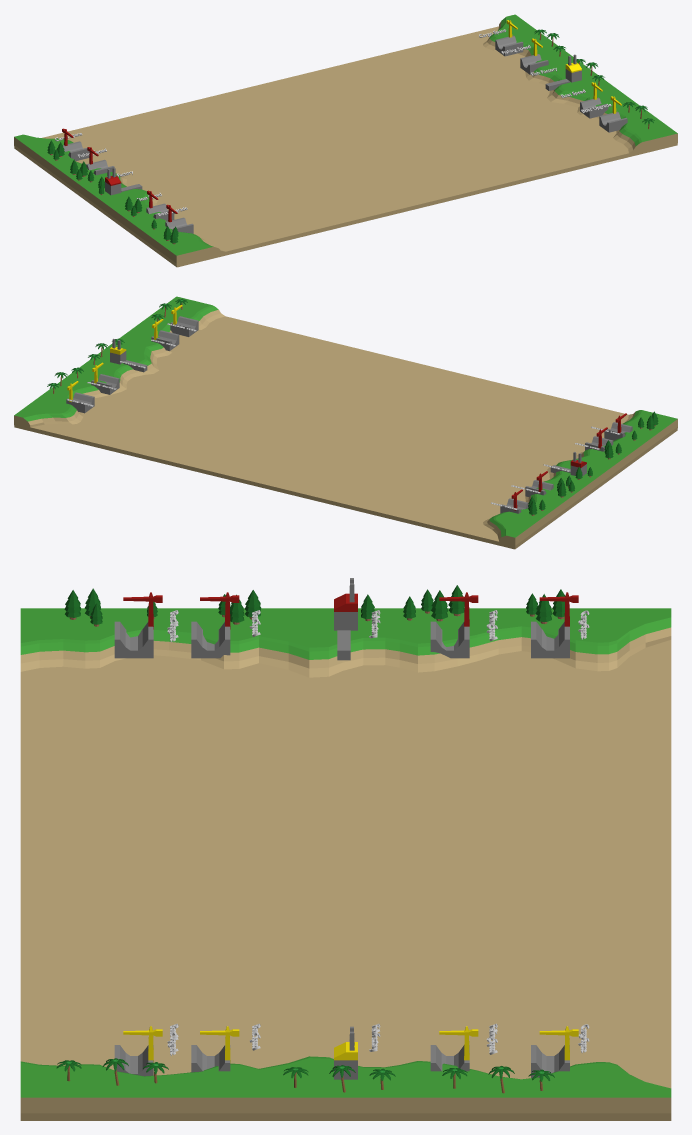
Rendered from Terrain.fbx.
3 renders of one model, top to bottom at view 1: azimuth 30°, elevation 25°; view 2: azimuth 150°, elevation 25°; view 3: azimuth 270°, elevation 25°, orthographic. The views are drawn at different scales.
Visible parts, largest first — view 1: Terrain, P2_FishFactory, P2_UpgradeDock, P2_CargoDock, P2_BoatSpeedDock, P2_FishSpeedDock, P1_Factory, P1_CargoDock, P1_UpgradeDock; view 2: Terrain, P2_UpgradeDock, P2_FishFactory, P2_FishSpeedDock, P2_CargoDock, P2_BoatSpeedDock, P1_UpgradeDock; view 3: Terrain, P1_UpgradeDock, P1_CargoDock, P2_BoatSpeedDock., P1_Factory, P1_FishSpeedDock, P2_CargoDock, P2_UpgradeDock, P2_BoatSpeedDock, P2_FishSpeedDock, P2_FishFactory.
Boxes of the visible parts, x1,y1,x2,y2 form: Terrain: (14,14,677,267); P2_FishFactory: (545,54,581,90); P2_UpgradeDock: (599,96,627,132); P2_CargoDock: (495,20,523,56); P2_BoatSpeedDock: (580,82,608,118); P2_FishSpeedDock: (520,38,548,74); P1_Factory: (105,167,142,195); P1_CargoDock: (62,128,89,160); P1_UpgradeDock: (165,204,193,233); Terrain: (14,296,677,549); P2_UpgradeDock: (170,305,198,336); P2_FishFactory: (110,338,147,372); P2_FishSpeedDock: (91,362,119,394); P2_CargoDock: (66,381,94,413); P2_BoatSpeedDock: (151,319,179,351); P1_UpgradeDock: (604,413,632,440); Terrain: (20,585,671,1120); P1_UpgradeDock: (114,592,162,658); P1_CargoDock: (531,592,578,658); P2_BoatSpeedDock.: (191,592,239,658); P1_Factory: (334,578,357,660); P1_FishSpeedDock: (430,592,478,658); P2_CargoDock: (531,1026,578,1077); P2_UpgradeDock: (114,1026,162,1076); P2_BoatSpeedDock: (191,1026,239,1072); P2_FishSpeedDock: (430,1026,478,1071); P2_FishFactory: (334,1026,357,1079).
Size of the model in its own units: 9635 by 633 by 5400.
